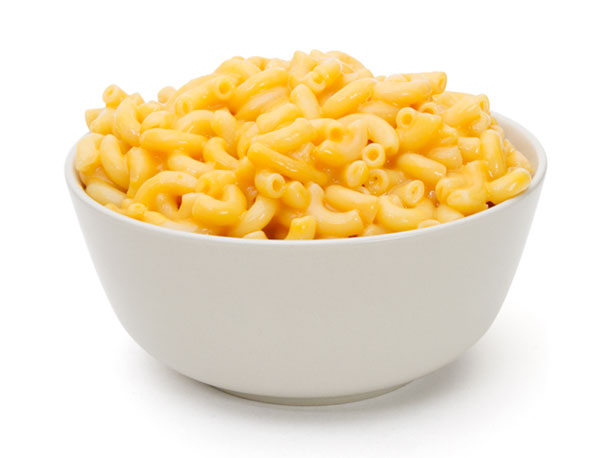macncheese: (70, 48, 535, 243)
